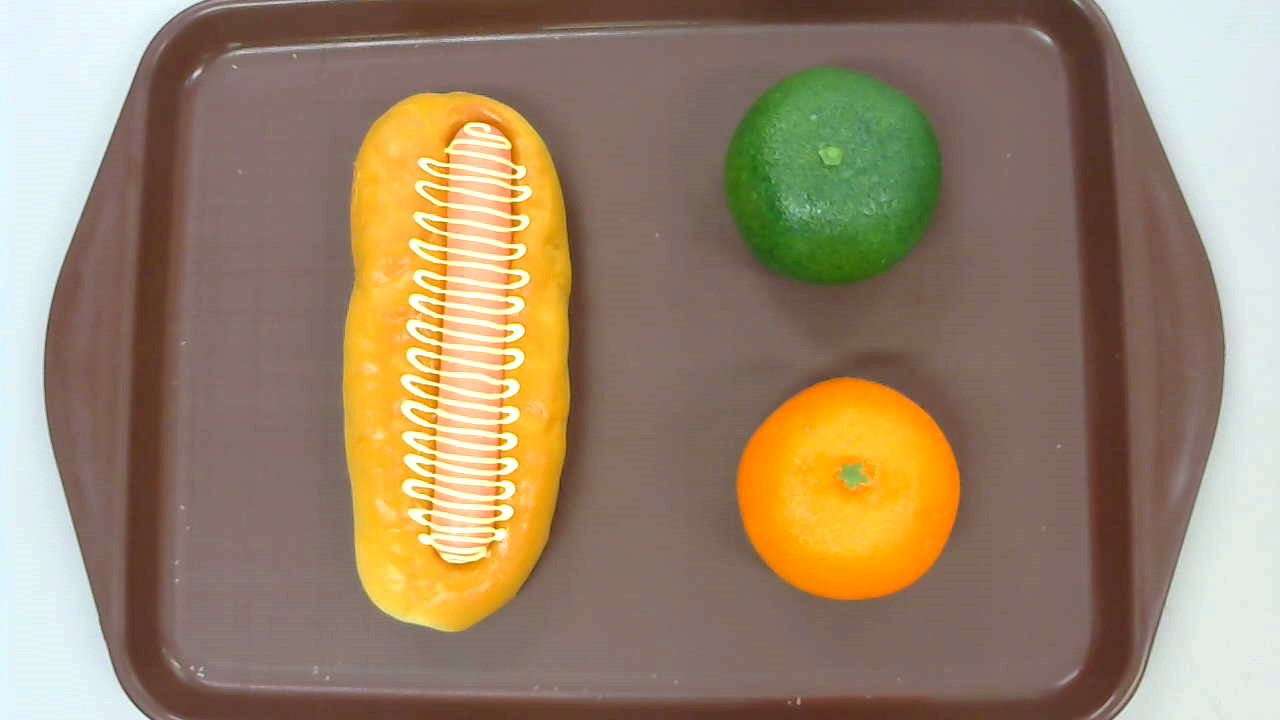green orange: (725, 67, 943, 285)
hot dog: (344, 92, 572, 633)
orange: (736, 376, 960, 600)
